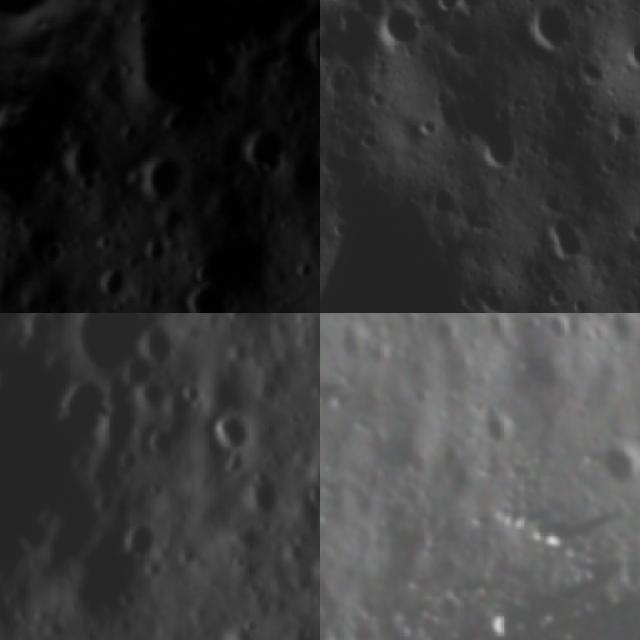crater: (320, 149, 529, 313), (423, 63, 534, 191), (50, 313, 168, 389), (538, 205, 602, 277), (171, 252, 246, 313), (231, 460, 299, 527), (361, 0, 426, 57), (519, 0, 581, 57), (134, 150, 190, 210), (111, 510, 176, 560), (202, 400, 260, 455), (132, 313, 192, 366), (236, 121, 293, 174), (581, 443, 640, 492), (473, 402, 516, 454), (601, 97, 640, 148), (533, 277, 576, 313), (270, 614, 320, 640), (545, 313, 576, 343), (427, 0, 470, 20), (620, 213, 640, 248), (624, 39, 640, 76)
